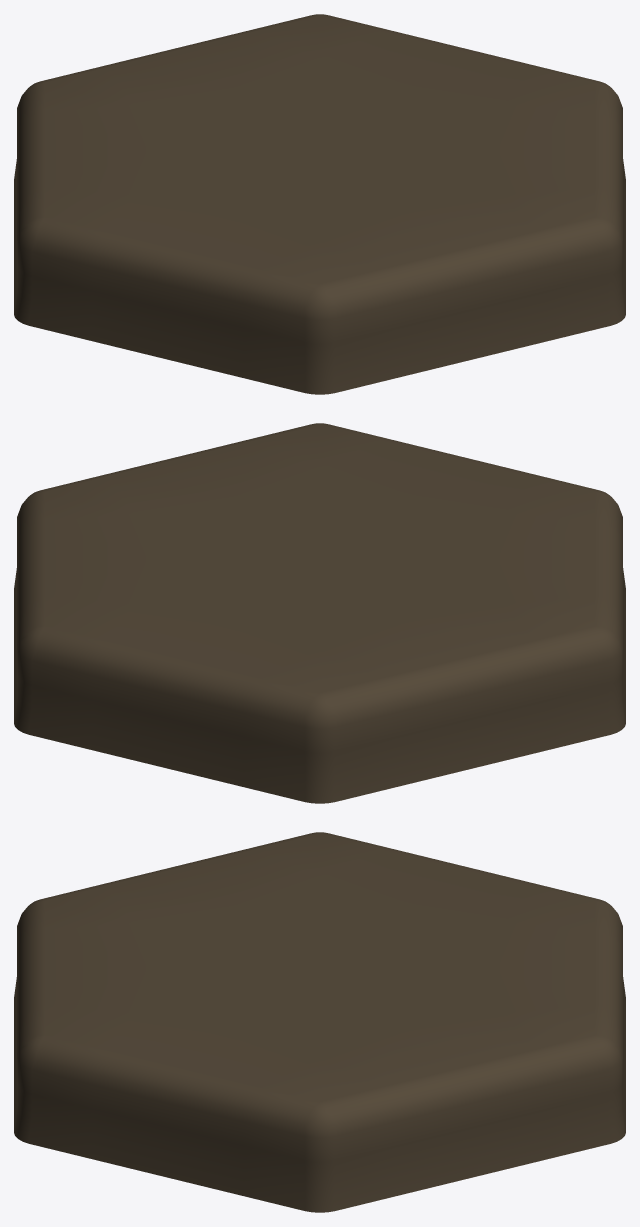
3 renders of one model, top to bottom at view 1: azimuth 30°, elevation 25°; view 2: azimuth 150°, elevation 25°; view 3: azimuth 270°, elevation 25°, orthographic.
Parts seen in each view (by area): view 1: Cylinder; view 2: Cylinder; view 3: Cylinder.
Boxes of the visible parts, x1,y1,x2,y2 form: Cylinder: [14, 14, 625, 394]; Cylinder: [14, 423, 625, 803]; Cylinder: [14, 832, 625, 1212].
Size of the model in its own units: 207 by 31.94 by 182.
